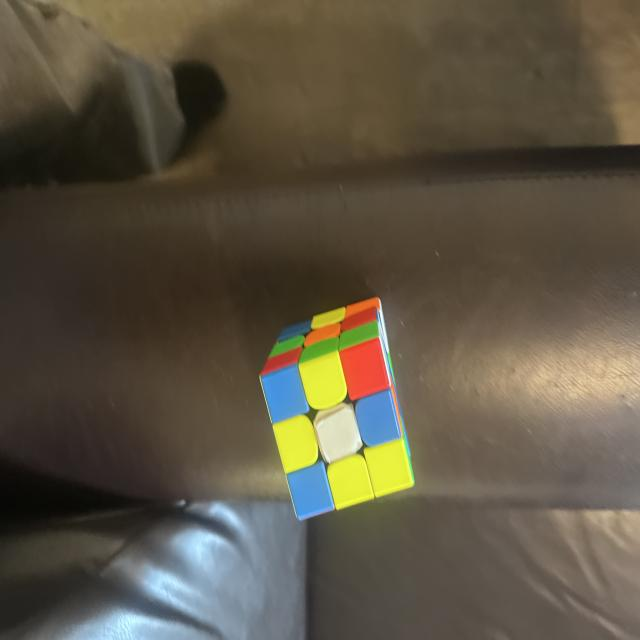sticker: (339, 334, 390, 404), (312, 399, 363, 465), (299, 341, 347, 410), (362, 437, 415, 498), (260, 361, 308, 424), (355, 388, 403, 449), (286, 460, 334, 520), (325, 453, 374, 510), (272, 414, 318, 474), (299, 335, 342, 363), (338, 320, 378, 350), (260, 349, 300, 378), (339, 306, 376, 332), (302, 323, 340, 348), (342, 297, 380, 321), (267, 335, 303, 359), (311, 306, 347, 329), (277, 320, 311, 344)
